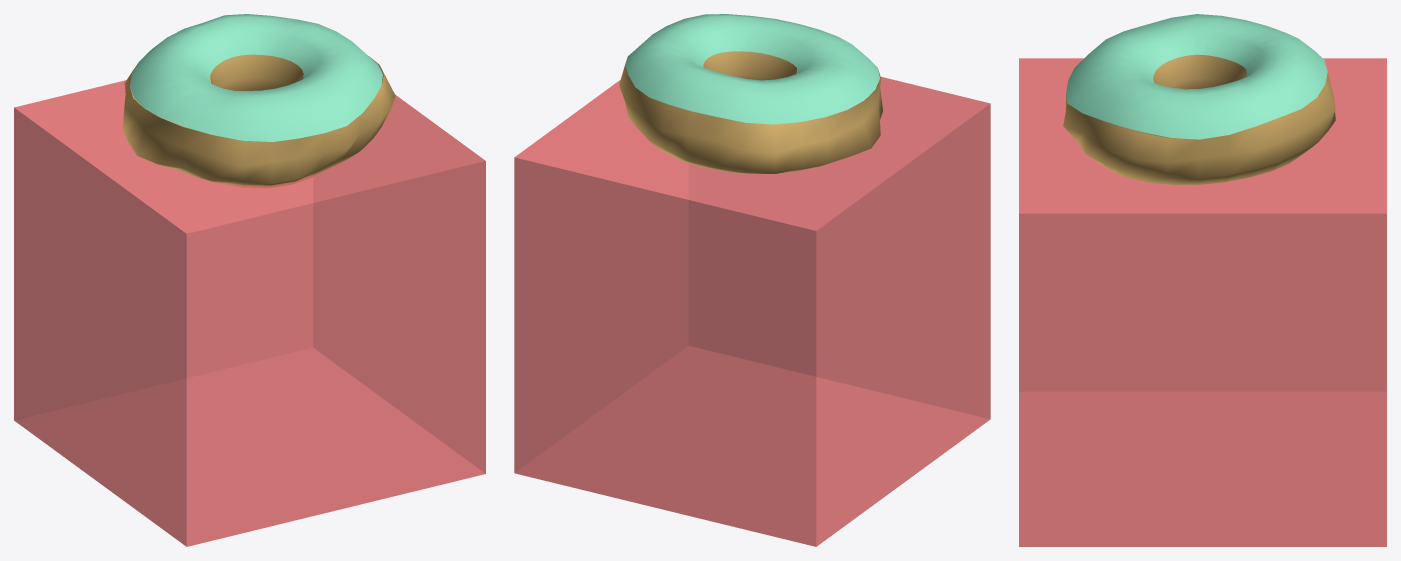
The model's file is nut.glb.
3 renders of one model, left to right at view 1: azimuth 30°, elevation 25°; view 2: azimuth 150°, elevation 25°; view 3: azimuth 270°, elevation 25°, orthographic. The views are drawn at different scales.
Visible parts, largest first — view 1: Cube, ICING, Torus.001; view 2: Cube, ICING, Torus.001; view 3: Cube, ICING, Torus.001.
Boxes of the visible parts, box(x1,y1,x2,y2) form: Cube: box(14, 80, 485, 546); ICING: box(130, 14, 382, 141); Torus.001: box(122, 54, 395, 188); Cube: box(514, 76, 990, 546); ICING: box(625, 14, 879, 124); Torus.001: box(619, 51, 882, 173); Cube: box(1019, 58, 1386, 546); ICING: box(1066, 14, 1327, 139); Torus.001: box(1063, 54, 1335, 184).
Size of the model in its own units: 2 by 2.53 by 2.
